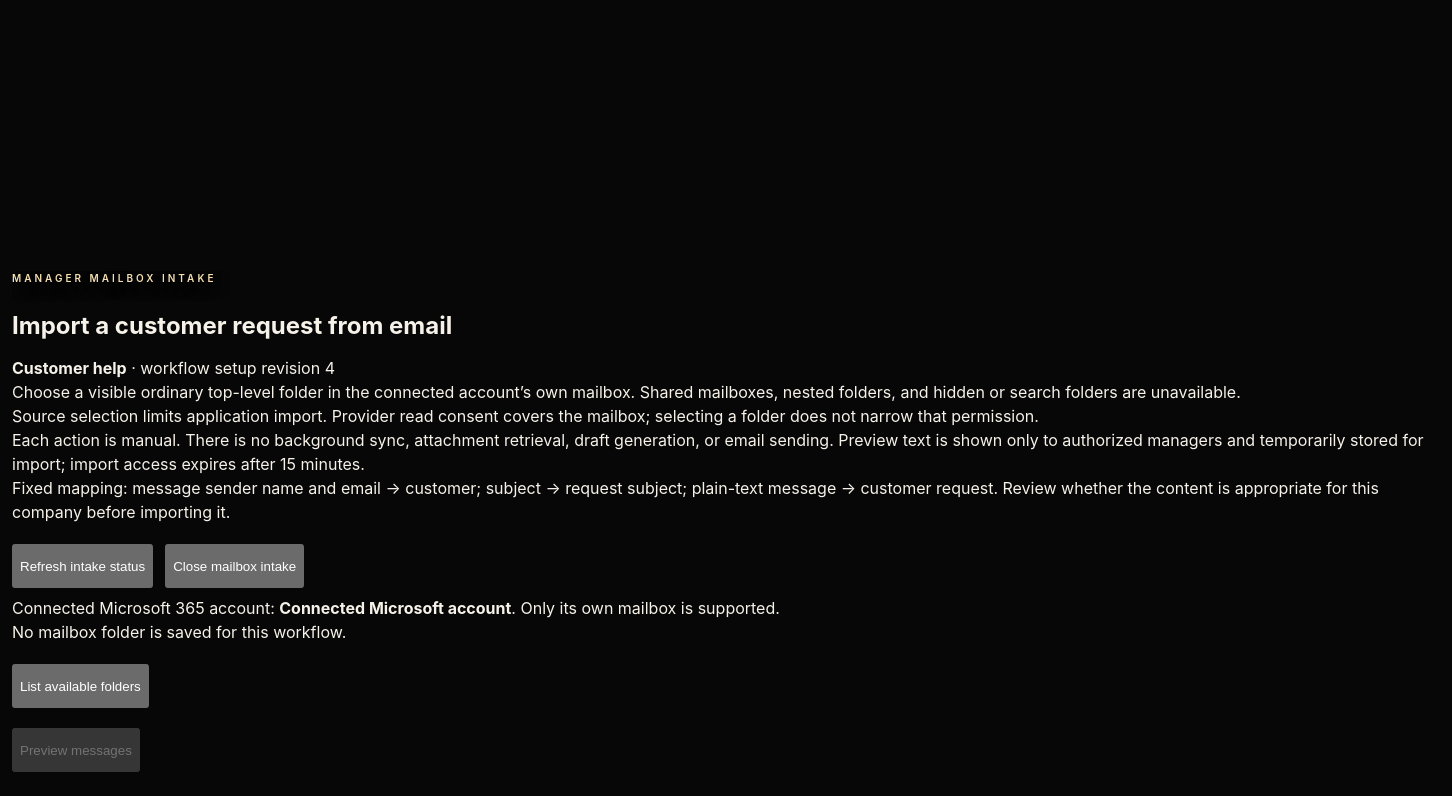
it: explicit manager mailbox intake › separates listing, saving, previewing and individually approved importing
(page scrolled)
Expected: the text "Connected Microsoft account" is shown, [279, 598, 511, 618]
Expected: the button "Preview messages" is disabled, [12, 728, 140, 772]
Click the button "List available folders". click: point(80, 686)
box: [12, 664, 149, 708]
(page scrolled)
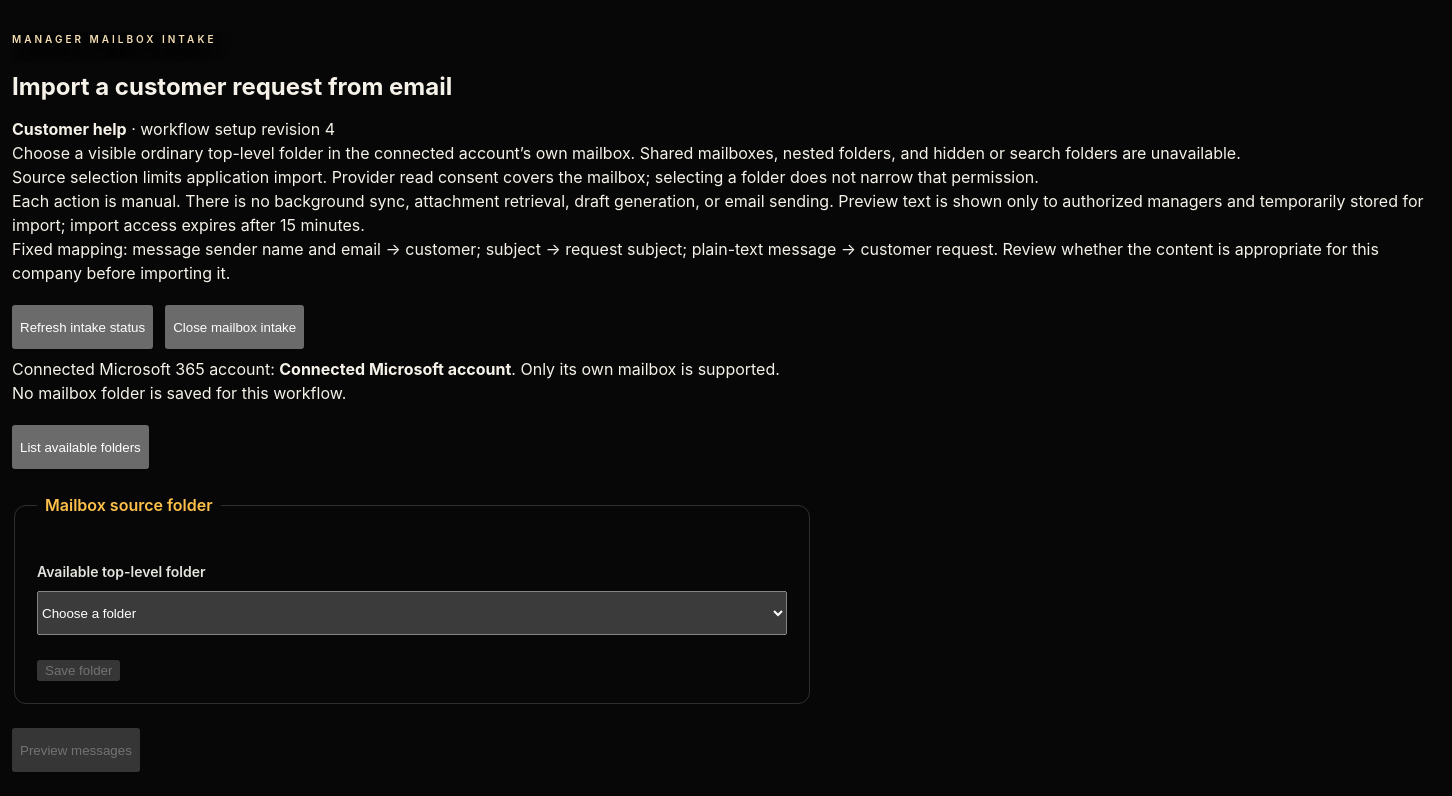
Select "Customer requests" in the dropdown labelled "Available top-level folder". click: point(412, 613)
box: [37, 591, 787, 635]
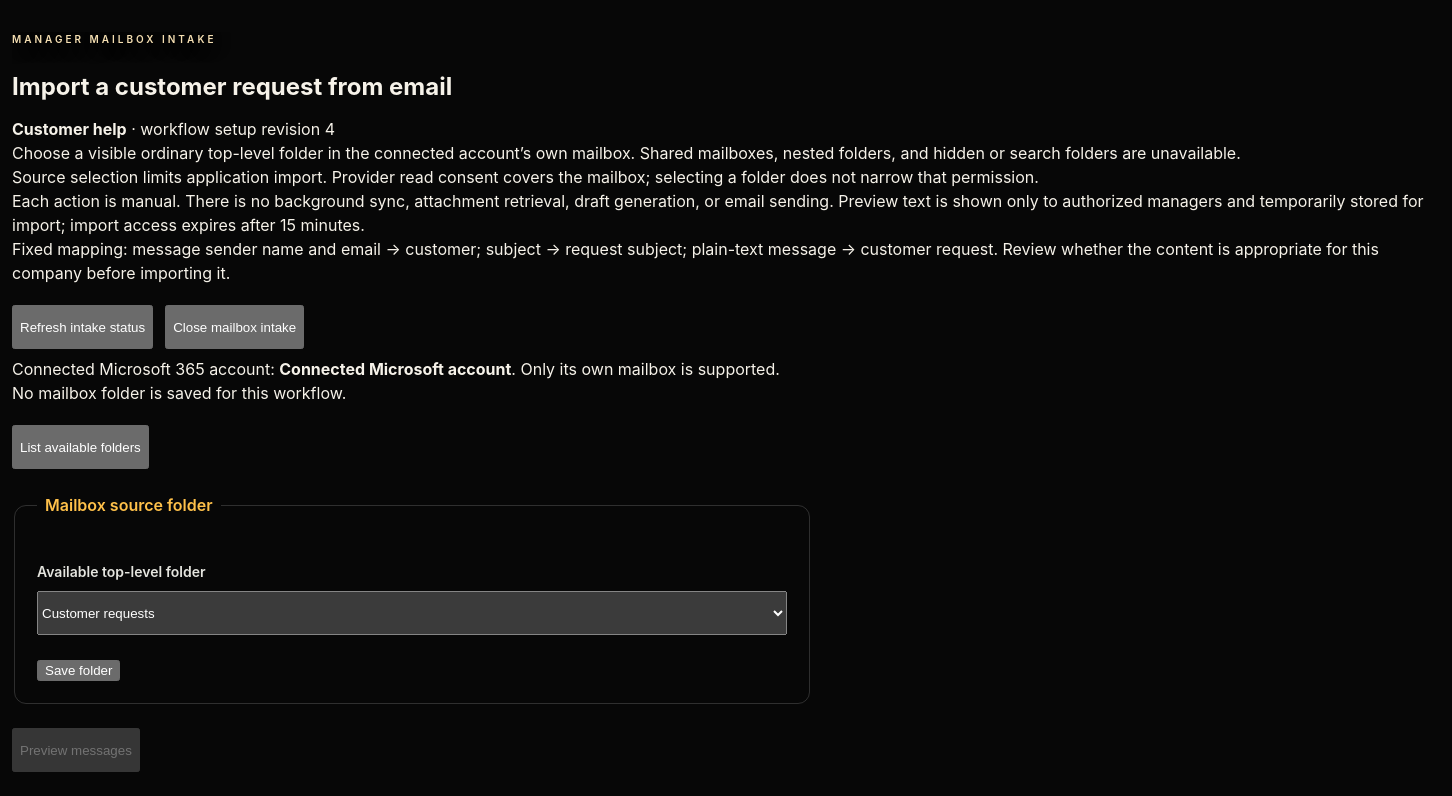
Click the button "Save folder". click: point(79, 670)
box: [37, 660, 120, 681]
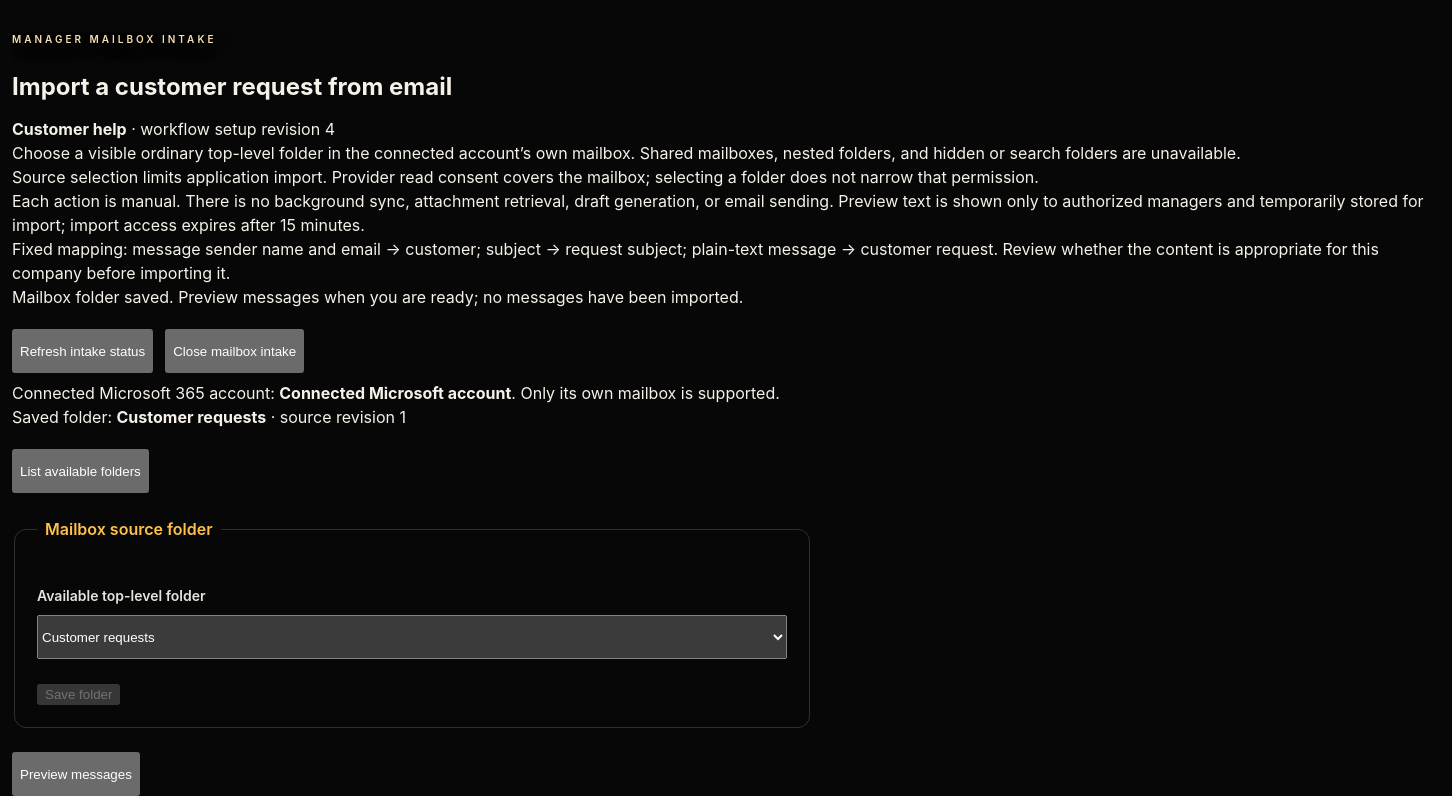
Expected: the text "Connected Microsoft account" is shown, [279, 383, 511, 403]
Expected: the text "Mailbox folder saved" is shown, [12, 287, 743, 307]
Click the button "Preview messages". click: point(76, 774)
box: [12, 752, 140, 795]
(page scrolled)
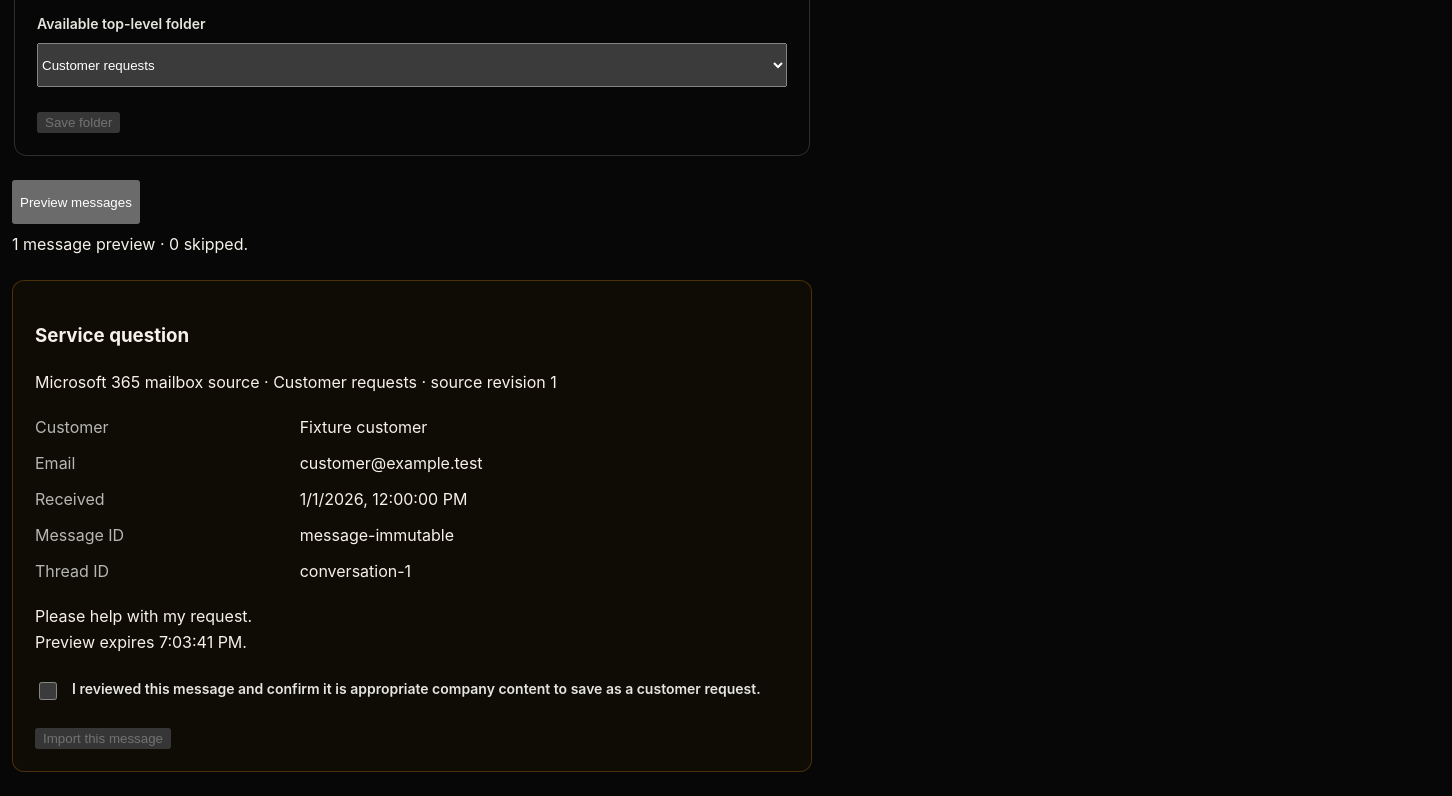
Expected: the element named "Preview: Service question" is shown, [12, 280, 812, 772]
Expected: the button "Import this message" is disabled, [35, 728, 171, 749]
Click the checkbox. click: point(48, 691)
box: [39, 682, 57, 700]
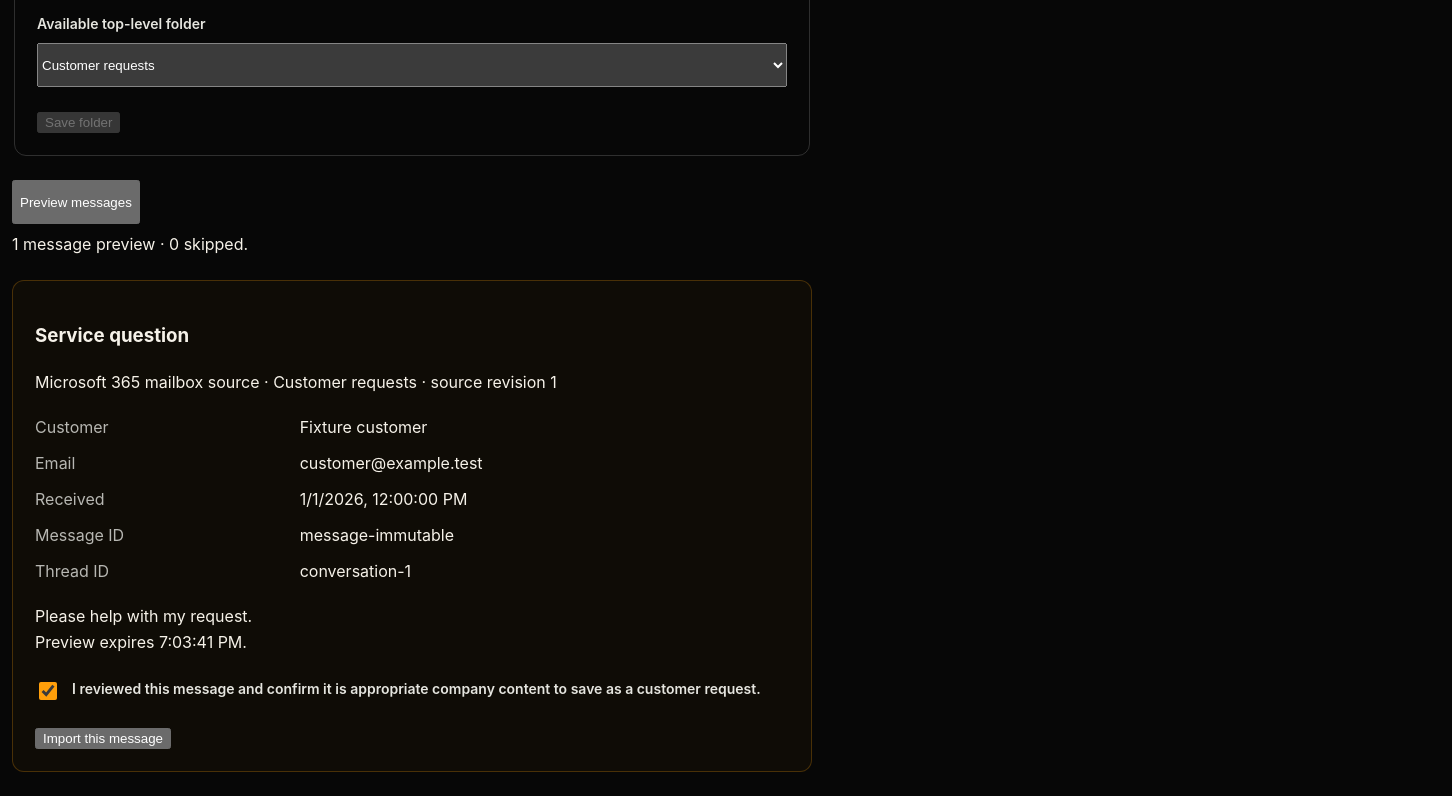
Click the button "Import this message". click: point(103, 738)
box: [35, 728, 171, 749]
(page scrolled)
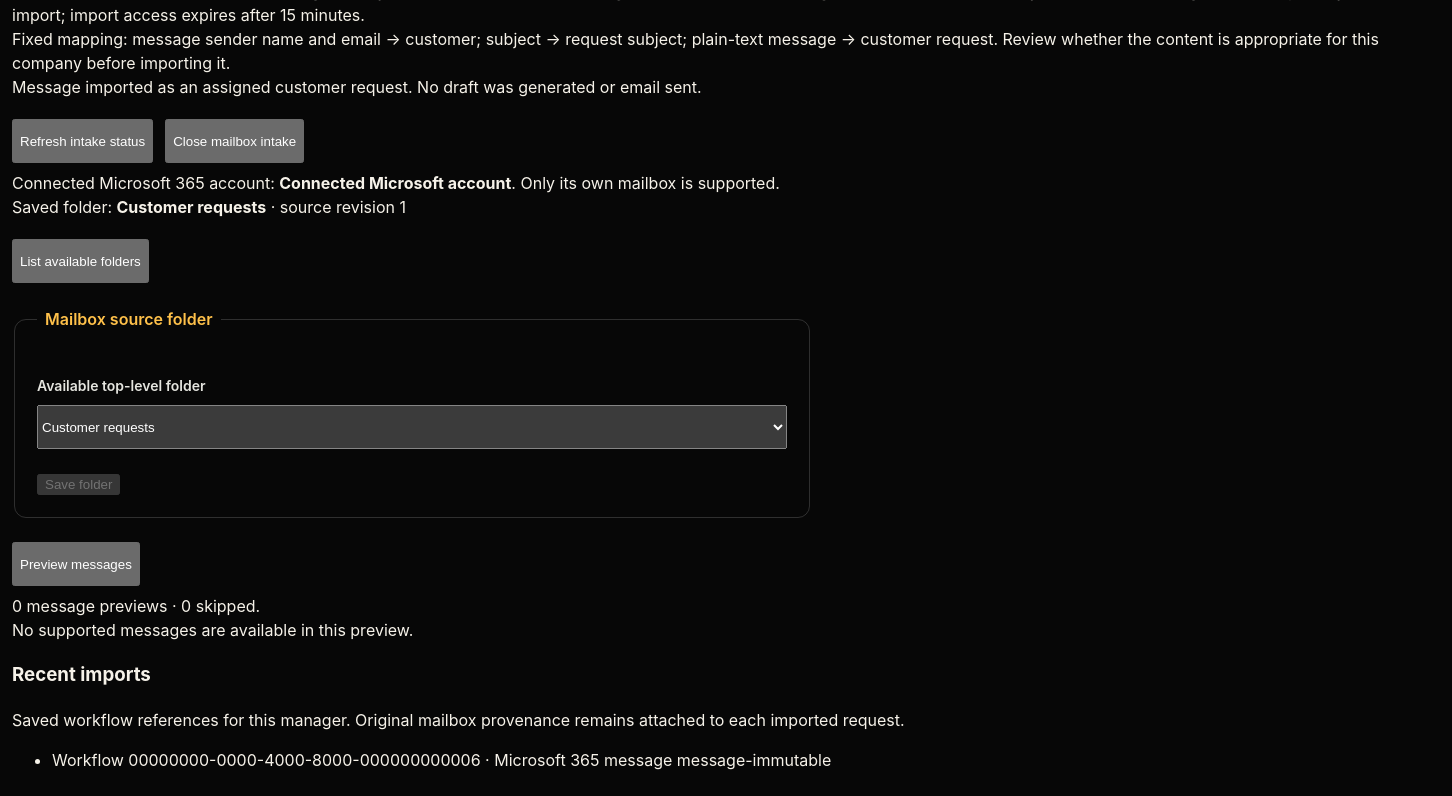
Expected: the text "Message imported as an assigned customer request" is shown, [12, 77, 702, 97]
